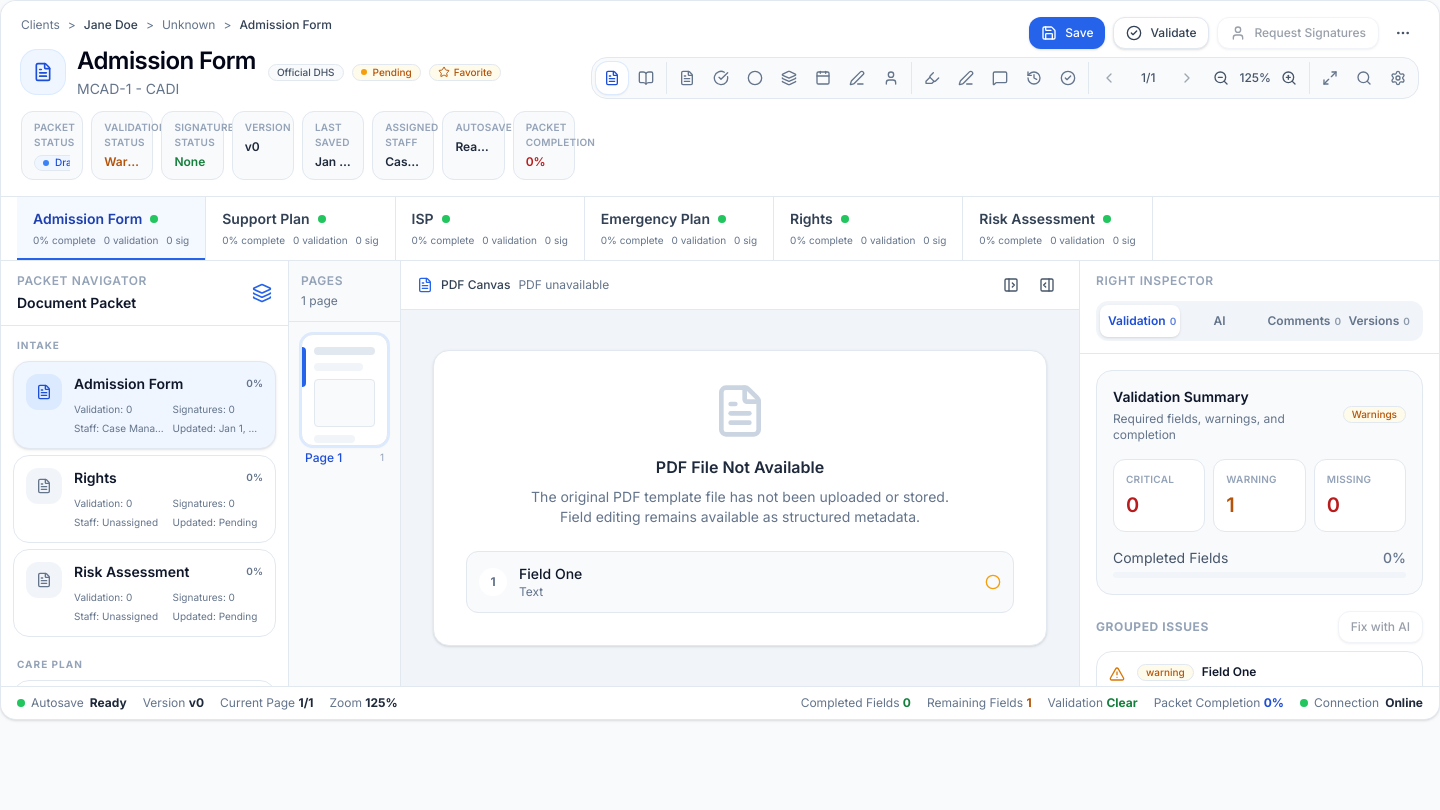
Test: PDFEditorClient — save notice › does not treat a successful save with ignored fields as an error
expect the text "Field One" below "PDF File Not Available" is shown: met, box [519, 565, 582, 582]
Click the button "Save" at (1067, 33), box [1029, 17, 1105, 49]
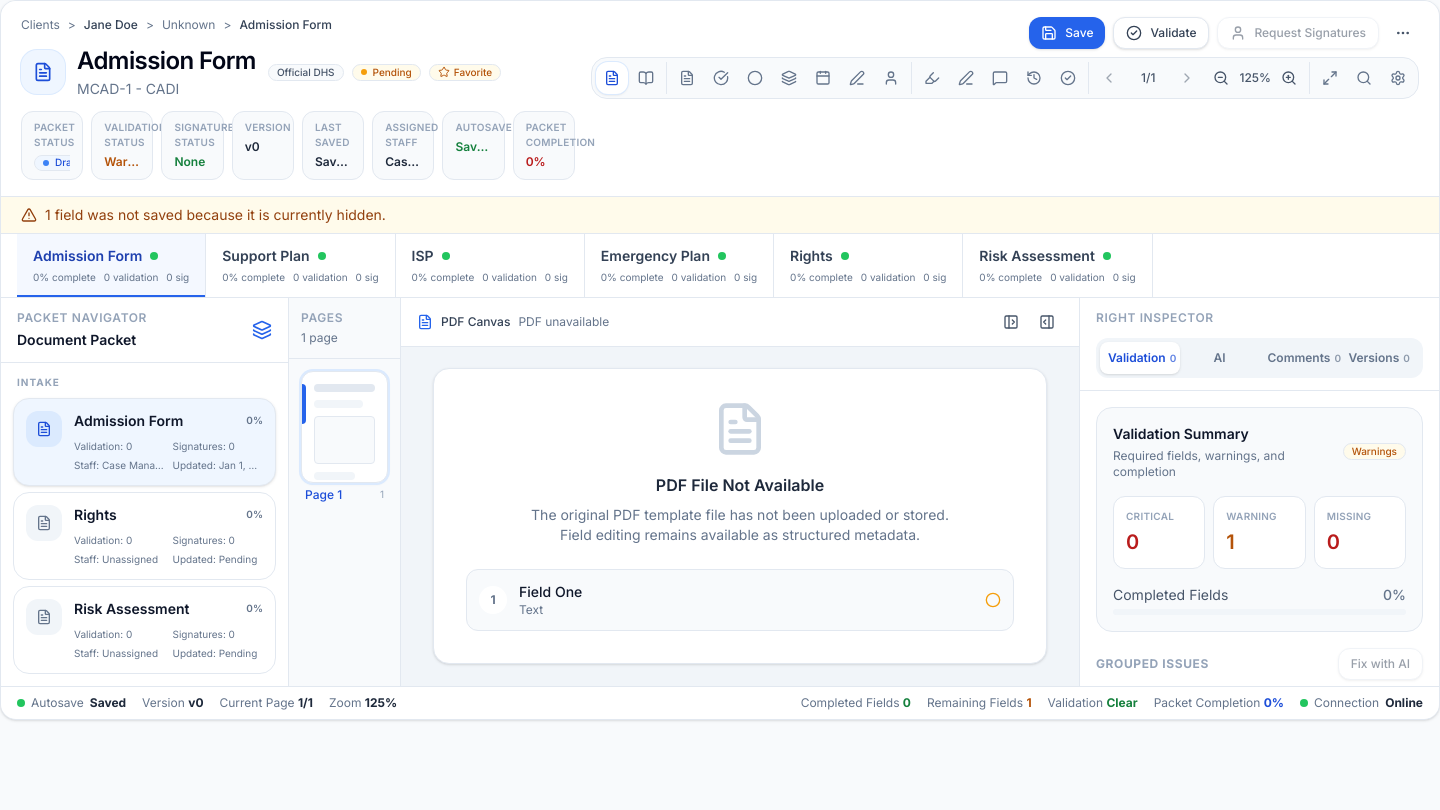
expect the text "1 field was not saved because it is currently hidden." is shown: met, box [45, 205, 386, 225]
